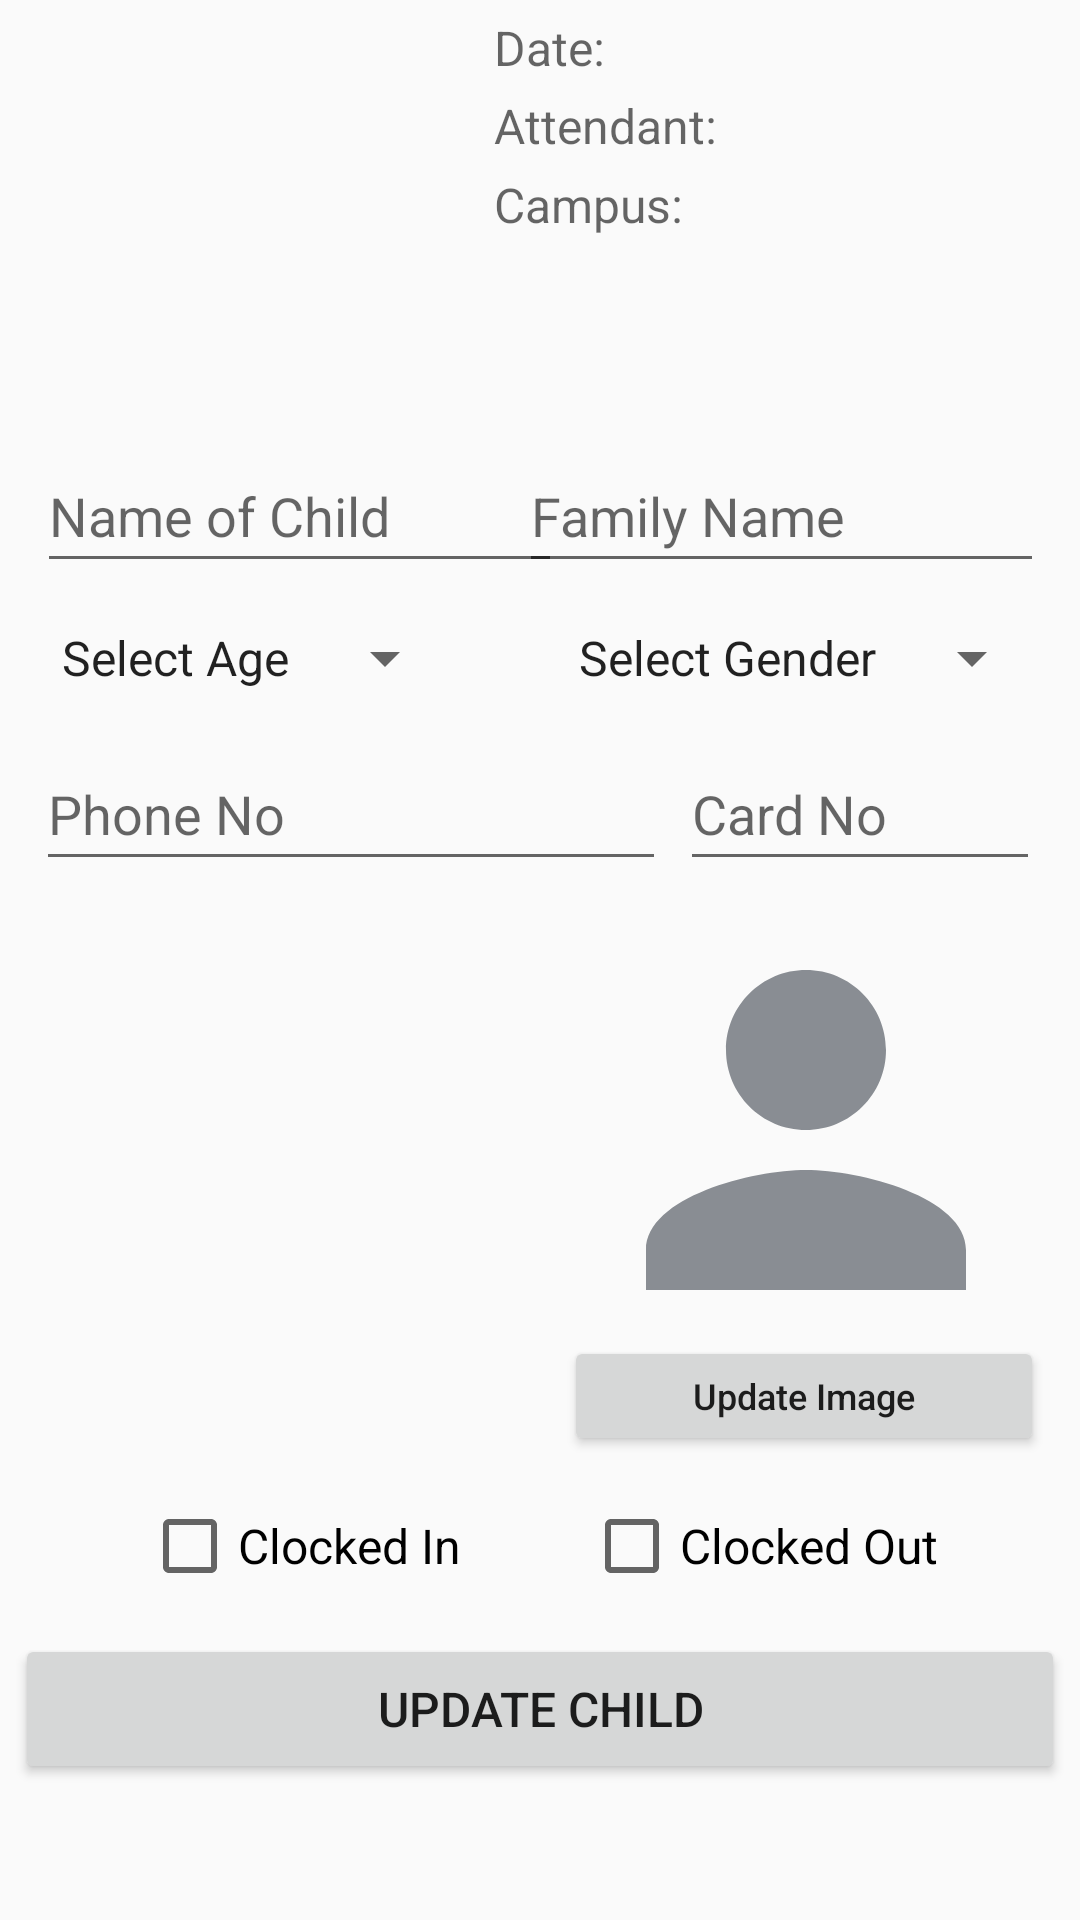

Screen size 1080x1920. Icon name, then its center in pixels as point (x, y):
person: point (806, 1130)
